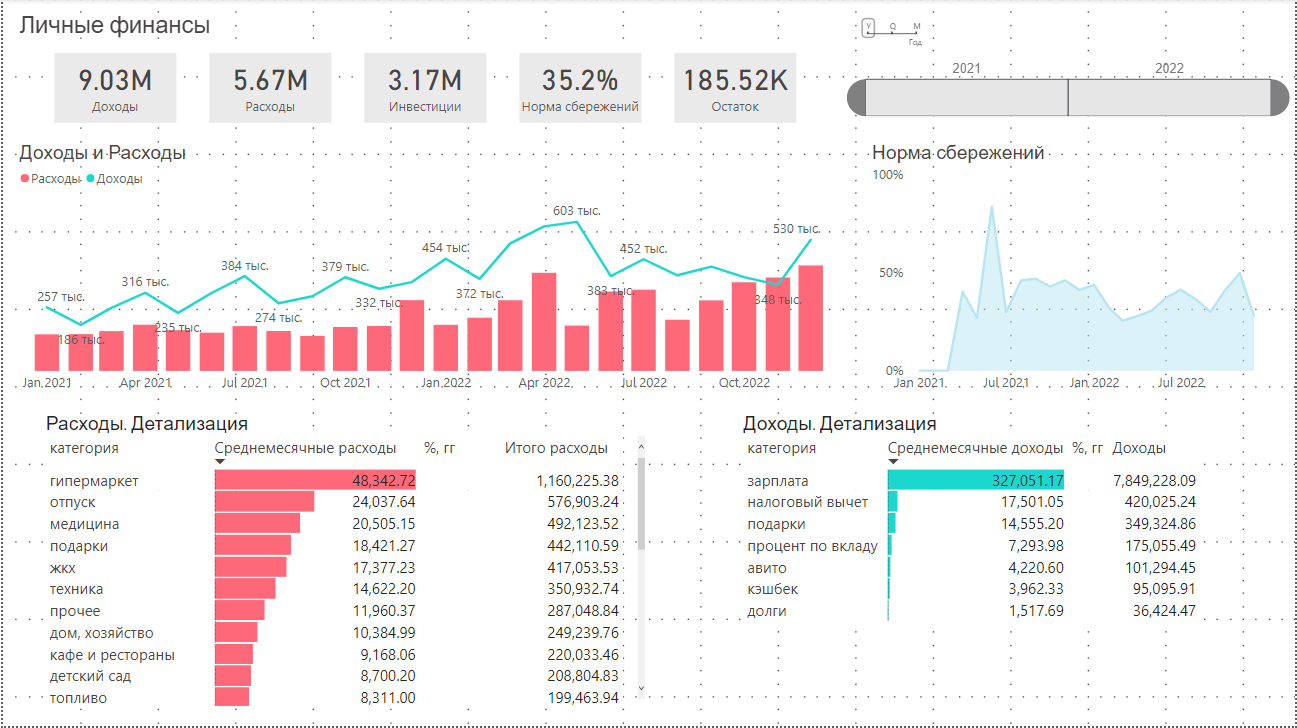

What the dashboard file says about the page in this screenshot:
{"tool":"powerbi","page":{"name":"Основная","canvas":[1600,900],"ordinal":0},"visuals":[{"type":"PBI_CV_7B952816_A48F_49B4_9E13_15E3BB2C0337","fields":{"Values":["Меры.Доходы"]},"box":[58.5,62.2,160,96],"z":0},{"type":"PBI_CV_7B952816_A48F_49B4_9E13_15E3BB2C0337","fields":{"Values":["Меры.Расходы"]},"box":[250.5,62.2,160,96],"z":1000},{"type":"PBI_CV_7B952816_A48F_49B4_9E13_15E3BB2C0337","fields":{"Values":["Меры.Инвестиции"]},"box":[442.5,62.2,160,96],"z":2000},{"type":"PBI_CV_7B952816_A48F_49B4_9E13_15E3BB2C0337","fields":{"Values":["Меры.Норма сбережений"]},"box":[634.5,62.2,160,96],"z":3000},{"type":"PBI_CV_7B952816_A48F_49B4_9E13_15E3BB2C0337","fields":{"Values":["Меры.Остаток"]},"box":[826.5,62.2,160,96],"z":4000},{"type":"lineStackedColumnComboChart","title":"Доходы и Расходы","fields":{"Y2":["Меры.Доходы"],"Y":["Меры.Расходы"],"Category":["Calendar.Month_Year"]},"box":[16,176,1024,320],"z":5000},{"type":"textbox","title":"Личные финансы","box":[16,16,400,32],"z":6000},{"type":"pivotTable","title":"Расходы. Детализация","fields":{"Rows":["raw.категория"],"Values":["Меры.Среднемесячные расходы","Меры.Динамика расходов гг","Меры.Расходы"]},"box":[48,512,752,368],"z":7000},{"type":"stackedAreaChart","title":"Норма сбережений","fields":{"Y":["Меры.Норма сбережений"],"Category":["Calendar.Month_Year"]},"box":[1072,176,512,320],"z":8000},{"type":"Timeline1447991079100","fields":{"Time":["Calendar.Month_Year"]},"box":[1040,16,560,160],"z":9000},{"type":"pivotTable","title":"Доходы. Детализация","fields":{"Rows":["raw.категория"],"Values":["Меры.Среднемесячные доходы","Меры.Динамика доходов гг","Меры.Доходы"]},"box":[912,512,624,368],"z":10000}]}

Visuals, with their boxes in screenshot pixels (x1, y1, x2, y2), scaled from the page's 1600x900 canvas onto the 1297x728 screenshot:
PBI_CV_7B952816_A48F_49B4_9E13_15E3BB2C0337 - Меры.Доходы: rect(47, 50, 177, 128)
PBI_CV_7B952816_A48F_49B4_9E13_15E3BB2C0337 - Меры.Расходы: rect(203, 50, 333, 128)
PBI_CV_7B952816_A48F_49B4_9E13_15E3BB2C0337 - Меры.Инвестиции: rect(359, 50, 488, 128)
PBI_CV_7B952816_A48F_49B4_9E13_15E3BB2C0337 - Меры.Норма сбережений: rect(514, 50, 644, 128)
PBI_CV_7B952816_A48F_49B4_9E13_15E3BB2C0337 - Меры.Остаток: rect(670, 50, 800, 128)
"Доходы и Расходы" lineStackedColumnComboChart: rect(13, 142, 843, 401)
"Личные финансы" textbox: rect(13, 13, 337, 39)
"Расходы. Детализация" pivotTable: rect(39, 414, 648, 712)
"Норма сбережений" stackedAreaChart: rect(869, 142, 1284, 401)
Timeline1447991079100 - Calendar.Month_Year: rect(843, 13, 1296, 142)
"Доходы. Детализация" pivotTable: rect(739, 414, 1245, 712)
